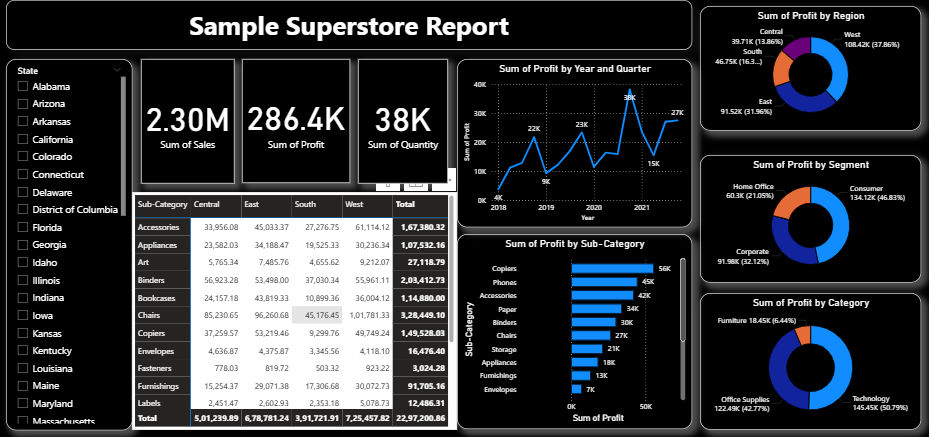

The dashboard page shown, as its layout file describes it:
{"tool":"powerbi","page":{"name":"Sample superstore report","canvas":[1530,721],"ordinal":0},"visuals":[{"type":"textbox","box":[9.9,0,1128.6,82.3],"z":0},{"type":"donutChart","fields":{"Category":["Orders.Category"],"Y":["Sum(Orders.Profit)"]},"box":[1151.8,482,364,224.7],"z":1000},{"type":"donutChart","fields":{"Category":["Orders.Segment","Orders.Category"],"Y":["Sum(Orders.Profit)"]},"box":[1151.8,254.5,364,210.4],"z":2000},{"type":"donutChart","fields":{"Category":["Orders.Region"],"Y":["Sum(Orders.Profit)"]},"box":[1151.8,10,364,204.8],"z":3000},{"type":"barChart","fields":{"Category":["Orders.Sub-Category"],"Y":["Sum(Orders.Profit)"]},"box":[752.2,385.3,386.8,321.4],"z":4000},{"type":"lineChart","fields":{"Y":["Sum(Orders.Profit)"],"Category":["Orders.Order Date.Variation.Date Hierarchy.Year","Orders.Order Date.Variation.Date Hierarchy.Quarter"]},"box":[752.2,96.7,386.8,277.3],"z":5000},{"type":"slicer","fields":{"Values":["Orders.State"]},"box":[9.9,96.4,208.3,610.9],"z":6000},{"type":"pivotTable","fields":{"Rows":["Orders.Sub-Category"],"Columns":["Orders.Region"],"Values":["Sum(Orders.Sales)"]},"box":[217.6,315.7,534.6,391],"z":7000},{"type":"card","fields":{"Values":["Sum(Orders.Sales)"]},"box":[231.8,96.7,153.6,204.8],"z":7001},{"type":"card","fields":{"Values":["Sum(Orders.Profit)"]},"box":[398.1,97.1,177.7,204],"z":7004},{"type":"card","fields":{"Values":["Sum(Orders.Quantity)"]},"box":[588.7,96.7,147.9,204.8],"z":7005}]}

Visuals, with their boxes in screenshot pixels (x1, y1, x2, y2), scaled from the page's 1530x721 canvas onto the 929x437 screenshot:
textbox: [6,0,691,50]
donutChart - Orders.Category x Sum(Orders.Profit): [699,292,920,428]
donutChart - Orders.Segment x Orders.Category: [699,154,920,282]
donutChart - Orders.Region x Sum(Orders.Profit): [699,6,920,130]
barChart - Orders.Sub-Category x Sum(Orders.Profit): [457,234,692,428]
lineChart - Sum(Orders.Profit) x Orders.Order Date.Variation.Date Hierarchy.Year: [457,59,692,227]
slicer - Orders.State: [6,58,132,429]
pivotTable - Orders.Sub-Category x Orders.Region: [132,191,457,428]
card - Sum(Orders.Sales): [141,59,234,183]
card - Sum(Orders.Profit): [242,59,350,182]
card - Sum(Orders.Quantity): [357,59,447,183]
